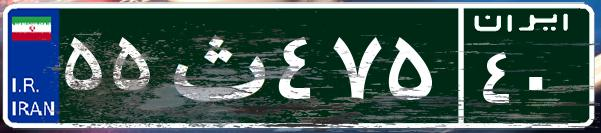0: (525, 38, 570, 115)
4: (273, 28, 330, 110), (475, 38, 525, 113)
5: (385, 28, 445, 110), (57, 26, 110, 107), (110, 28, 158, 105)
7: (330, 28, 385, 110)
ث: (158, 15, 273, 115)
